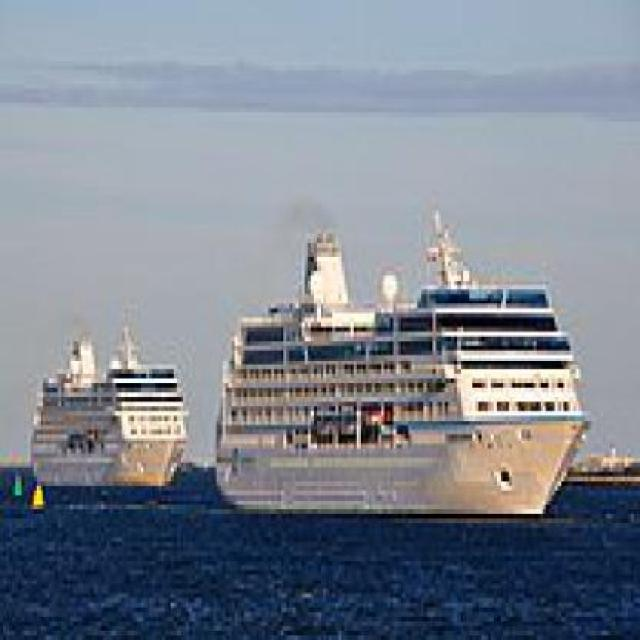cruise: (211, 202, 596, 520), (26, 309, 193, 501)
